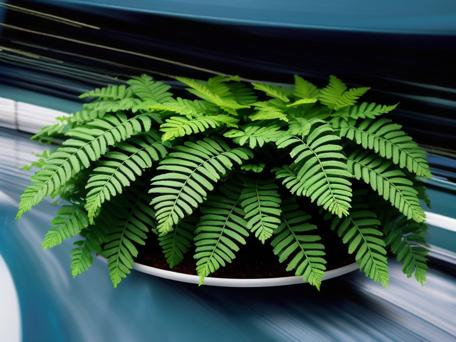pottedplant: (14, 74, 431, 288)
